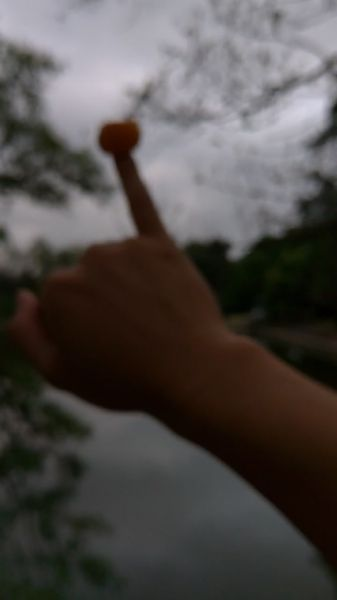eggs: (97, 121, 141, 153)
